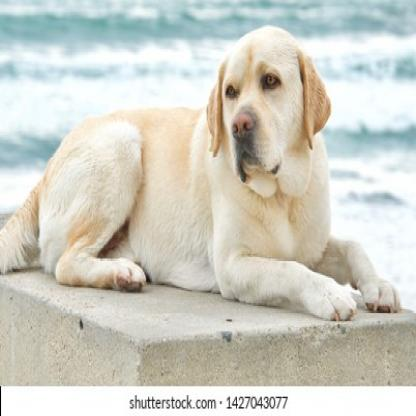dog: (0, 24, 399, 321)
